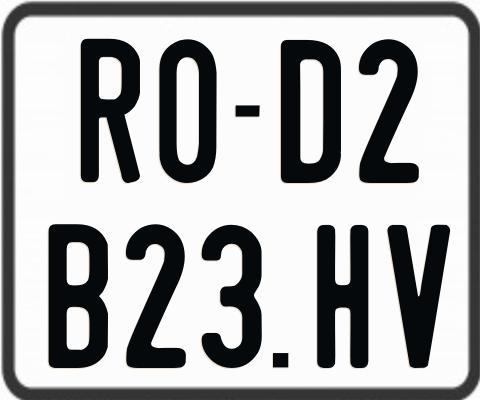0: (158, 38, 216, 184)
2: (358, 36, 421, 186), (125, 223, 188, 368)
3: (202, 223, 268, 369)
B: (48, 222, 111, 366)
D: (280, 39, 345, 182)
H: (317, 224, 372, 370)
R: (81, 38, 143, 184)
V: (385, 224, 449, 369)
